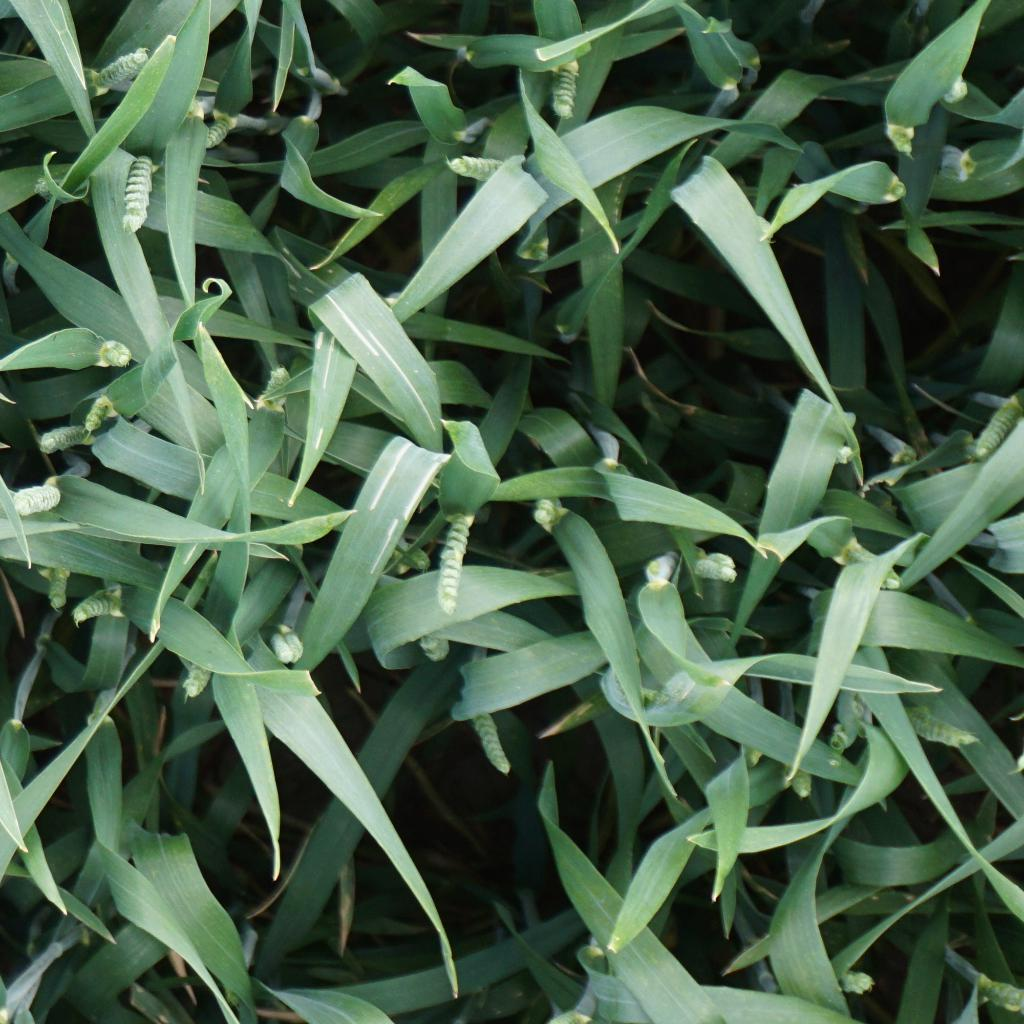0-0: (429, 507, 475, 620), (876, 705, 983, 749), (827, 534, 905, 594), (965, 394, 1024, 467), (464, 698, 513, 776), (120, 148, 159, 238), (90, 43, 162, 90), (11, 474, 73, 522), (67, 585, 134, 627), (541, 60, 577, 125), (967, 972, 1024, 1012), (437, 155, 509, 185), (174, 653, 219, 701), (257, 353, 295, 409), (682, 549, 741, 585), (196, 112, 244, 154), (80, 393, 128, 435), (406, 625, 451, 665), (34, 419, 86, 453), (266, 624, 307, 667), (37, 561, 71, 612), (778, 763, 820, 802), (94, 333, 134, 371), (525, 493, 561, 532), (834, 969, 877, 994)
